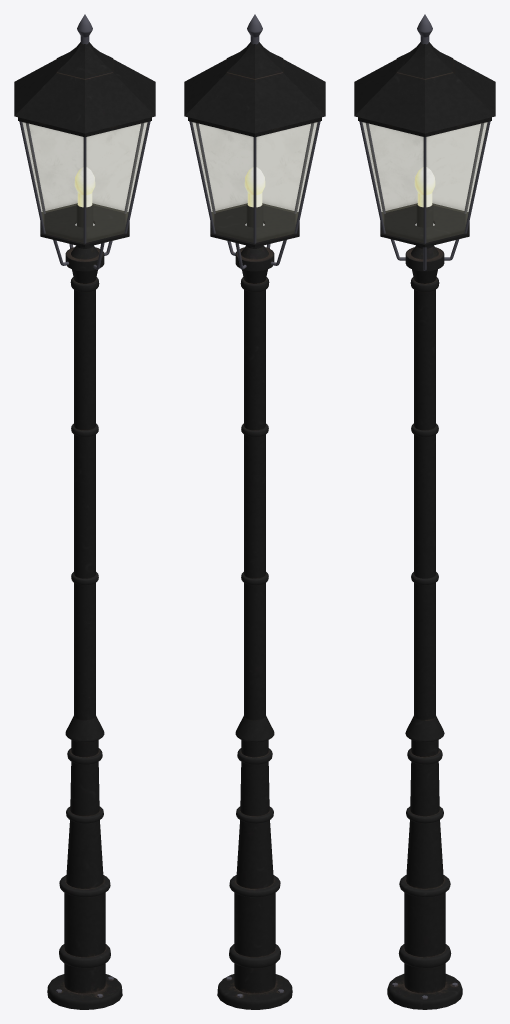
Rendered from lamp.glb.
3 renders of one model, left to right at view 1: azimuth 30°, elevation 25°; view 2: azimuth 150°, elevation 25°; view 3: azimuth 270°, elevation 25°, orthographic.
Visible parts, largest first — view 1: Stamm_low, Deckel_low, pPlane5, pPlane4, pPlane2, pPlane7, ZwischenPlatte_Low, object 21, StangeOben4_mid, StangeOben5_mid, StangeOben3_mid; view 2: Stamm_low, Deckel_low, pPlane2, pPlane3, pPlane5, pPlane6, ZwischenPlatte_Low, object 21, StangeOben2_mid, StangeOben3_mid, StangeOben1_mid; view 3: Stamm_low, Deckel_low, pPlane6, pPlane7, pPlane4, pPlane3, ZwischenPlatte_Low, object 21, StangeOben_mid, StangeOben5_mid, StangeOben1_mid.
Boxes of the visible parts, left/top/right/bottom form: Stamm_low: left=47, top=203, right=122, bottom=1009; Deckel_low: left=14, top=42, right=155, bottom=137; pPlane5: left=86, top=122, right=147, bottom=242; pPlane4: left=22, top=122, right=83, bottom=242; pPlane2: left=29, top=124, right=83, bottom=212; pPlane7: left=87, top=124, right=140, bottom=212; ZwischenPlatte_Low: left=40, top=203, right=129, bottom=247; object 21: left=74, top=167, right=95, bottom=207; StangeOben4_mid: left=83, top=137, right=86, bottom=243; StangeOben5_mid: left=124, top=121, right=150, bottom=233; StangeOben3_mid: left=19, top=121, right=45, bottom=233; Stamm_low: left=217, top=203, right=292, bottom=1009; Deckel_low: left=184, top=42, right=325, bottom=137; pPlane2: left=192, top=122, right=253, bottom=242; pPlane3: left=256, top=122, right=317, bottom=242; pPlane5: left=256, top=124, right=310, bottom=212; pPlane6: left=199, top=124, right=252, bottom=212; ZwischenPlatte_Low: left=210, top=203, right=299, bottom=247; object 21: left=244, top=167, right=265, bottom=207; StangeOben2_mid: left=253, top=137, right=256, bottom=243; StangeOben3_mid: left=294, top=121, right=320, bottom=233; StangeOben1_mid: left=189, top=121, right=215, bottom=233; Stamm_low: left=387, top=203, right=462, bottom=1009; Deckel_low: left=354, top=42, right=495, bottom=136; pPlane6: left=362, top=122, right=423, bottom=242; pPlane7: left=426, top=122, right=487, bottom=242; pPlane4: left=369, top=124, right=423, bottom=212; pPlane3: left=426, top=124, right=480, bottom=212; ZwischenPlatte_Low: left=380, top=203, right=469, bottom=247; object 21: left=414, top=167, right=435, bottom=207; StangeOben_mid: left=423, top=137, right=426, bottom=243; StangeOben5_mid: left=359, top=121, right=385, bottom=233; StangeOben1_mid: left=464, top=121, right=490, bottom=233.
Bounding box in the file's own units: 0.3018 × 2 × 0.2613.
Materials: 1 (1 with a texture image).
